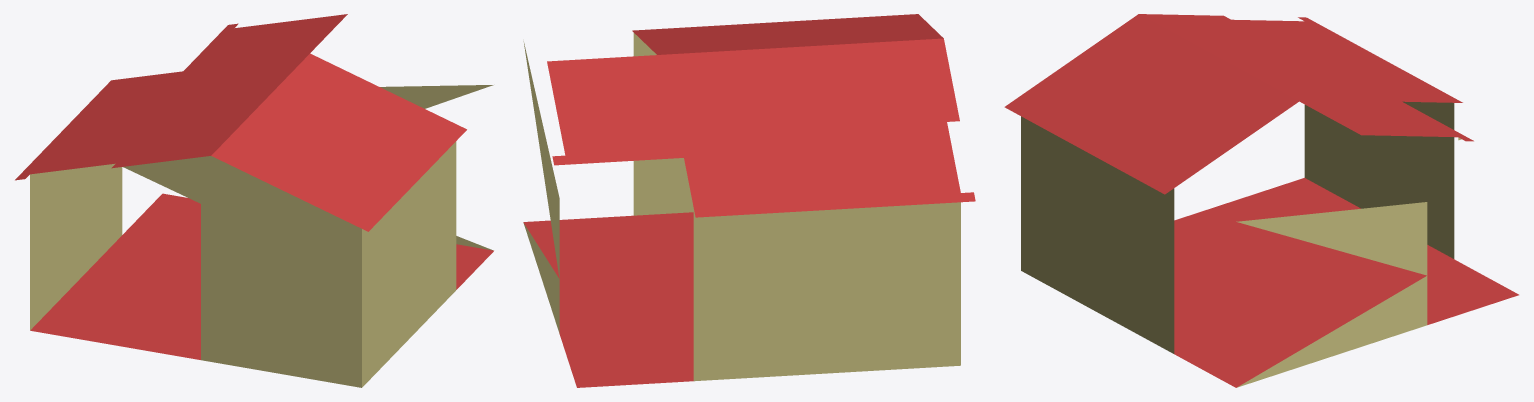
3 views of the same model, side by side, from view 1: azimuth 30°, elevation 25°; view 2: azimuth 150°, elevation 25°; view 3: azimuth 270°, elevation 25° (orthographic). The views are drawn at different scales.
Size of the model in its own units: 21.61 by 21.66 by 9.82.
